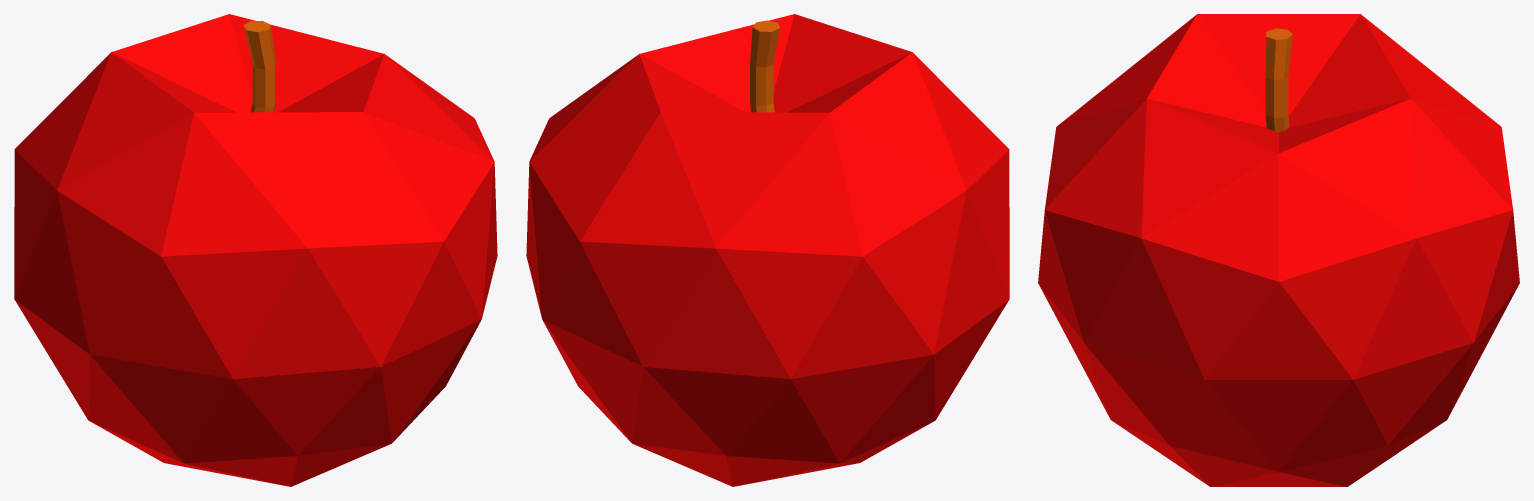
The model's file is Apple.fbx.
3 renders of one model, left to right at view 1: azimuth 30°, elevation 25°; view 2: azimuth 150°, elevation 25°; view 3: azimuth 270°, elevation 25°, orthographic.
Visible parts, largest first — view 1: Icosphere, Cylinder; view 2: Icosphere, Cylinder; view 3: Icosphere, Cylinder.
Boxes of the visible parts, box(x1,y1,x2,y2) form: Icosphere: box(14, 14, 497, 486); Cylinder: box(243, 20, 275, 112); Icosphere: box(526, 14, 1009, 486); Cylinder: box(750, 20, 779, 112); Icosphere: box(1038, 14, 1519, 486); Cylinder: box(1265, 28, 1292, 132).
Bounding box in the file's own units: 190 × 178 × 190.
